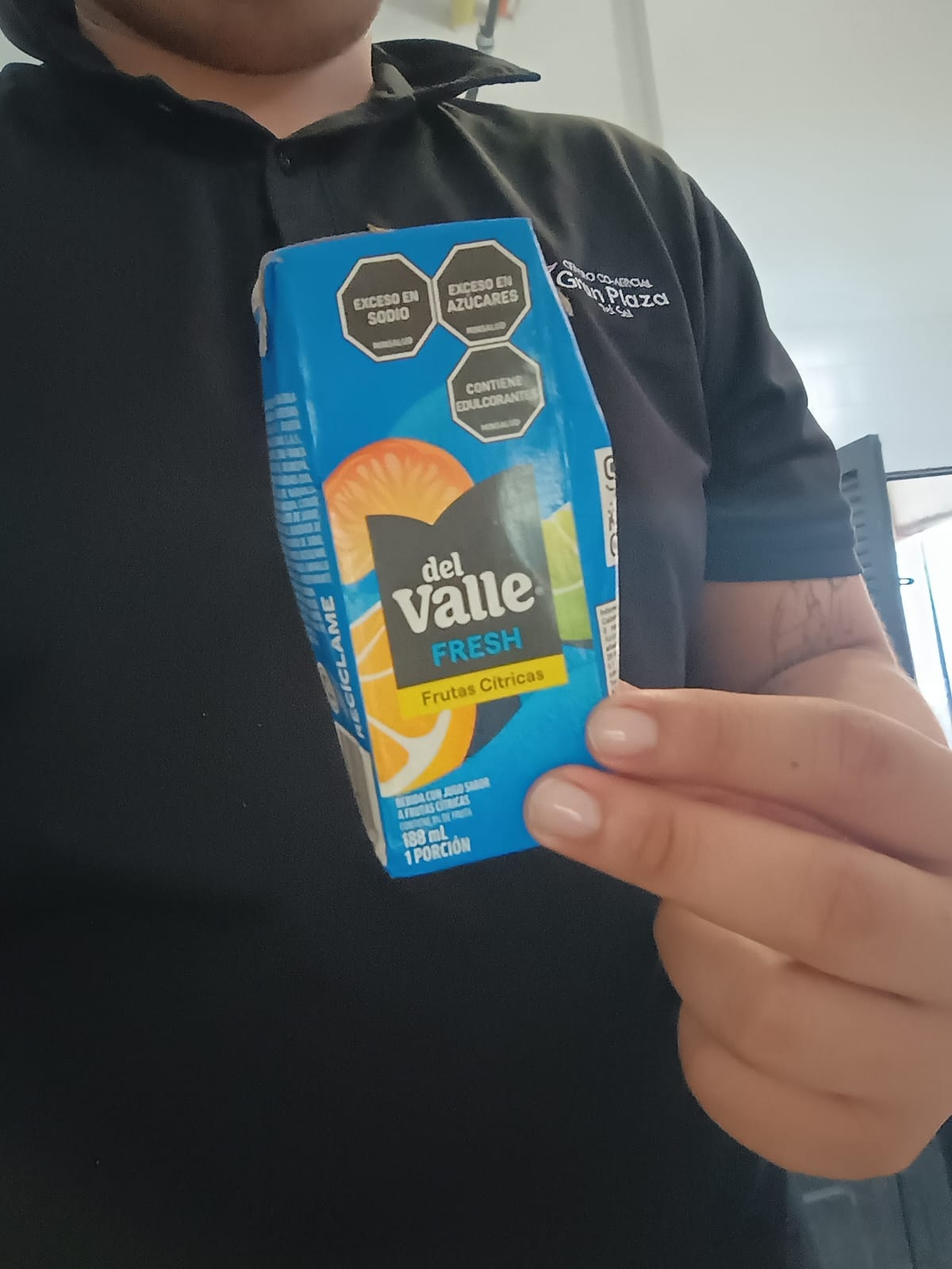Carton: (250, 212, 620, 878)
